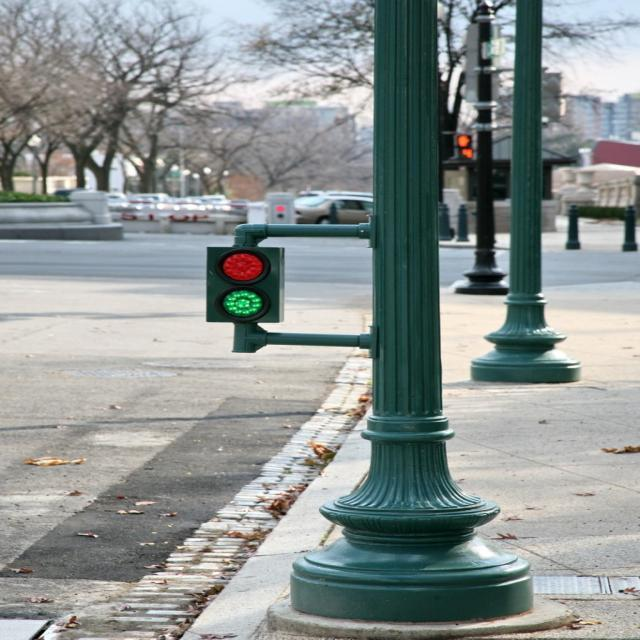traffic light: (202, 243, 282, 325)
